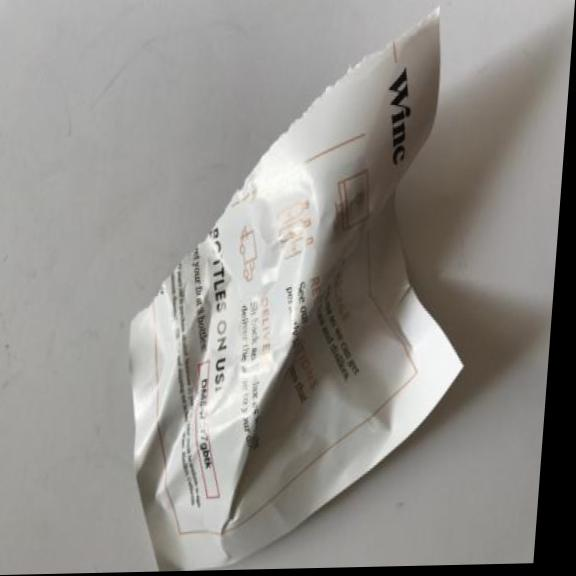Kertas: (104, 0, 499, 565)
